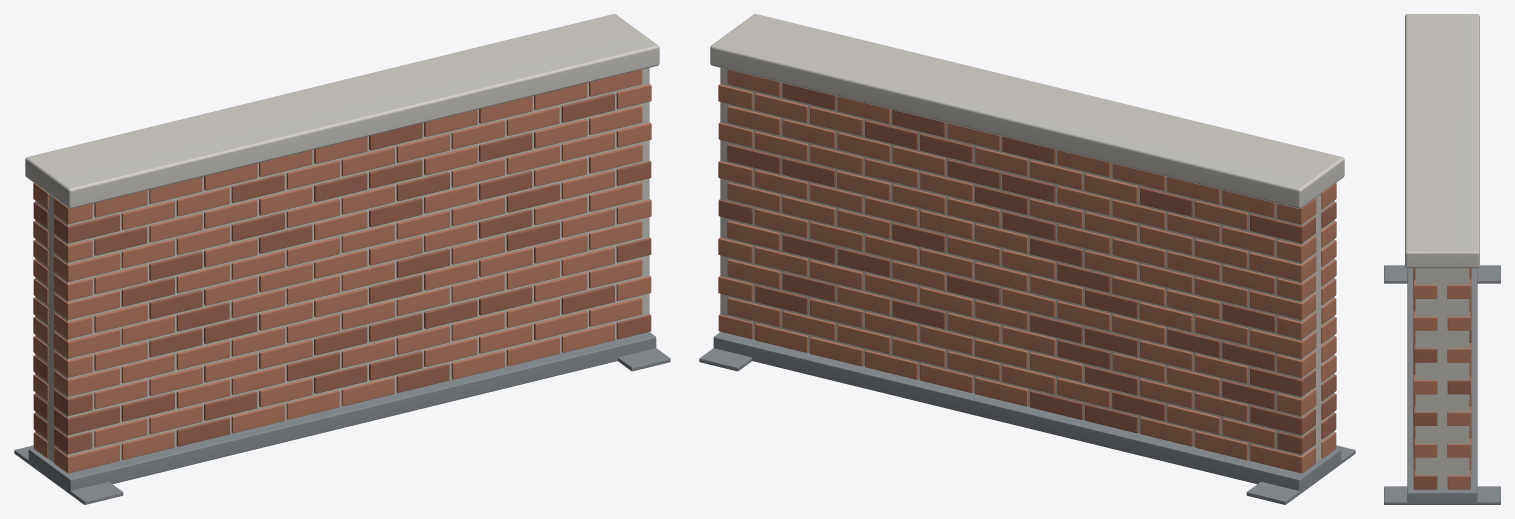
File: wall_brick.glb
3 views of the same model, side by side, from view 1: azimuth 30°, elevation 25°; view 2: azimuth 150°, elevation 25°; view 3: azimuth 270°, elevation 25° (orthographic). The views are drawn at different scales.
Visible parts, largest first — view 1: SM_wall_brick; view 2: SM_wall_brick; view 3: SM_wall_brick.
Part boxes in pixels (left/top/right/bottom): SM_wall_brick: left=14, top=14, right=670, bottom=504; SM_wall_brick: left=699, top=14, right=1355, bottom=504; SM_wall_brick: left=1384, top=14, right=1500, bottom=504.
Bounding box in the file's own units: 2.42 × 1.2 × 0.5.
